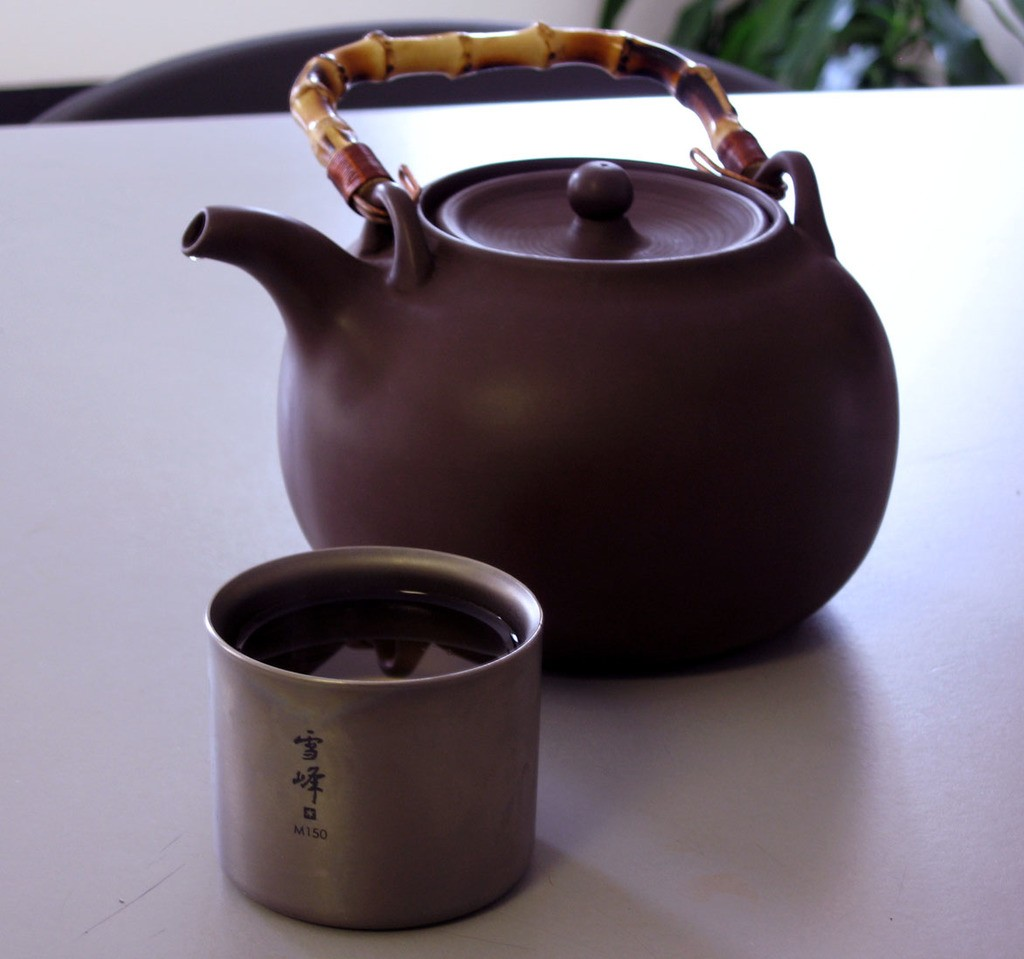teapot: (181, 21, 900, 675)
